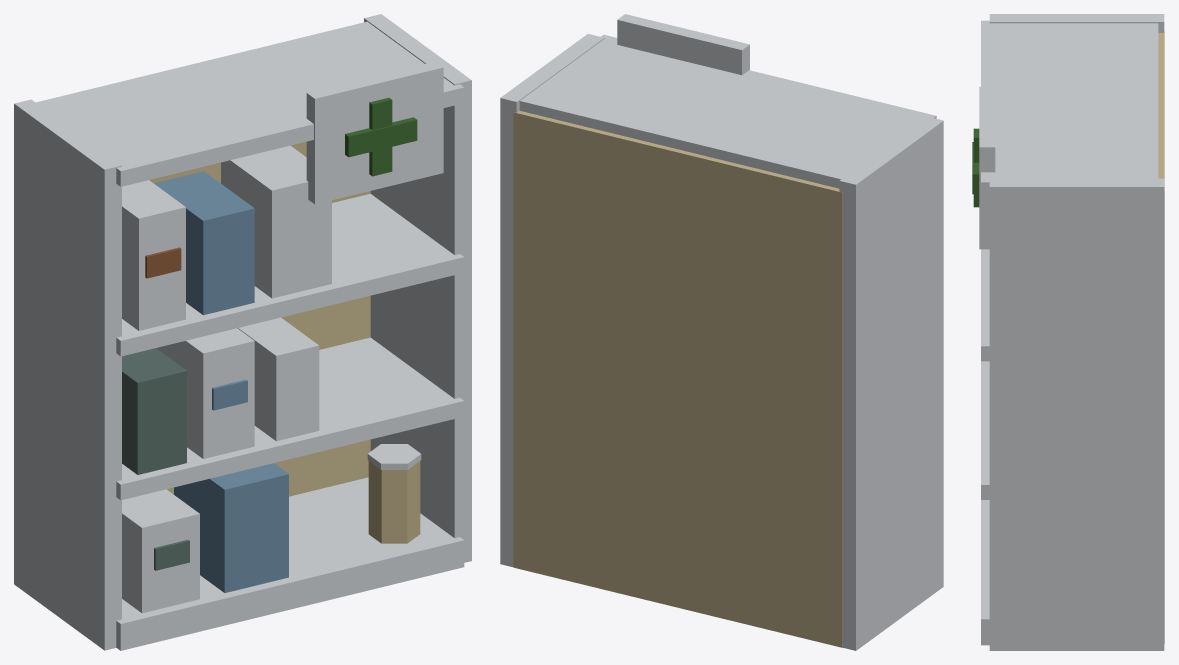
Rendered from prop-pharmacy-shelf.glb.
3 views of the same model, side by side, from view 1: azimuth 30°, elevation 25°; view 2: azimuth 150°, elevation 25°; view 3: azimuth 270°, elevation 25° (orthographic). The views are drawn at different scales.
Visible parts, largest first — view 1: pharmacy_shelf; view 2: pharmacy_shelf; view 3: pharmacy_shelf.
Boxes of the visible parts, left/top/right/bottom form: pharmacy_shelf: left=14, top=14, right=471, bottom=650; pharmacy_shelf: left=500, top=14, right=943, bottom=650; pharmacy_shelf: left=972, top=14, right=1164, bottom=650.
Size of the model in its own units: 0.855 by 1.12 by 0.402.
